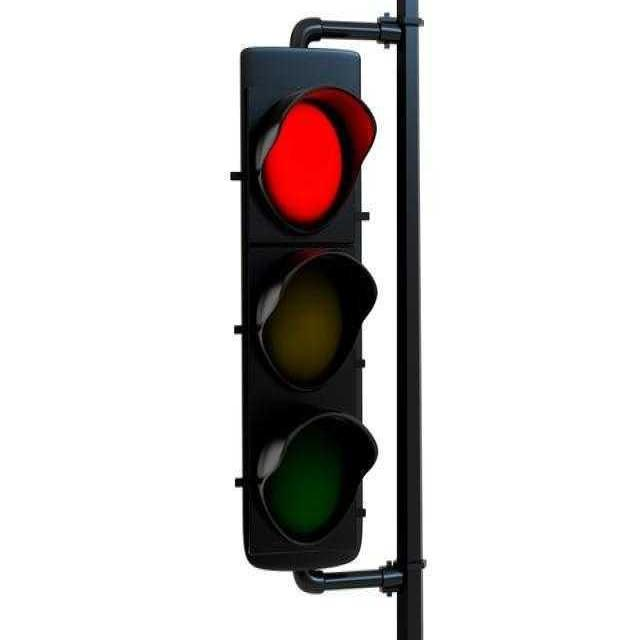Traffic Light -Red-: (219, 49, 395, 575)
